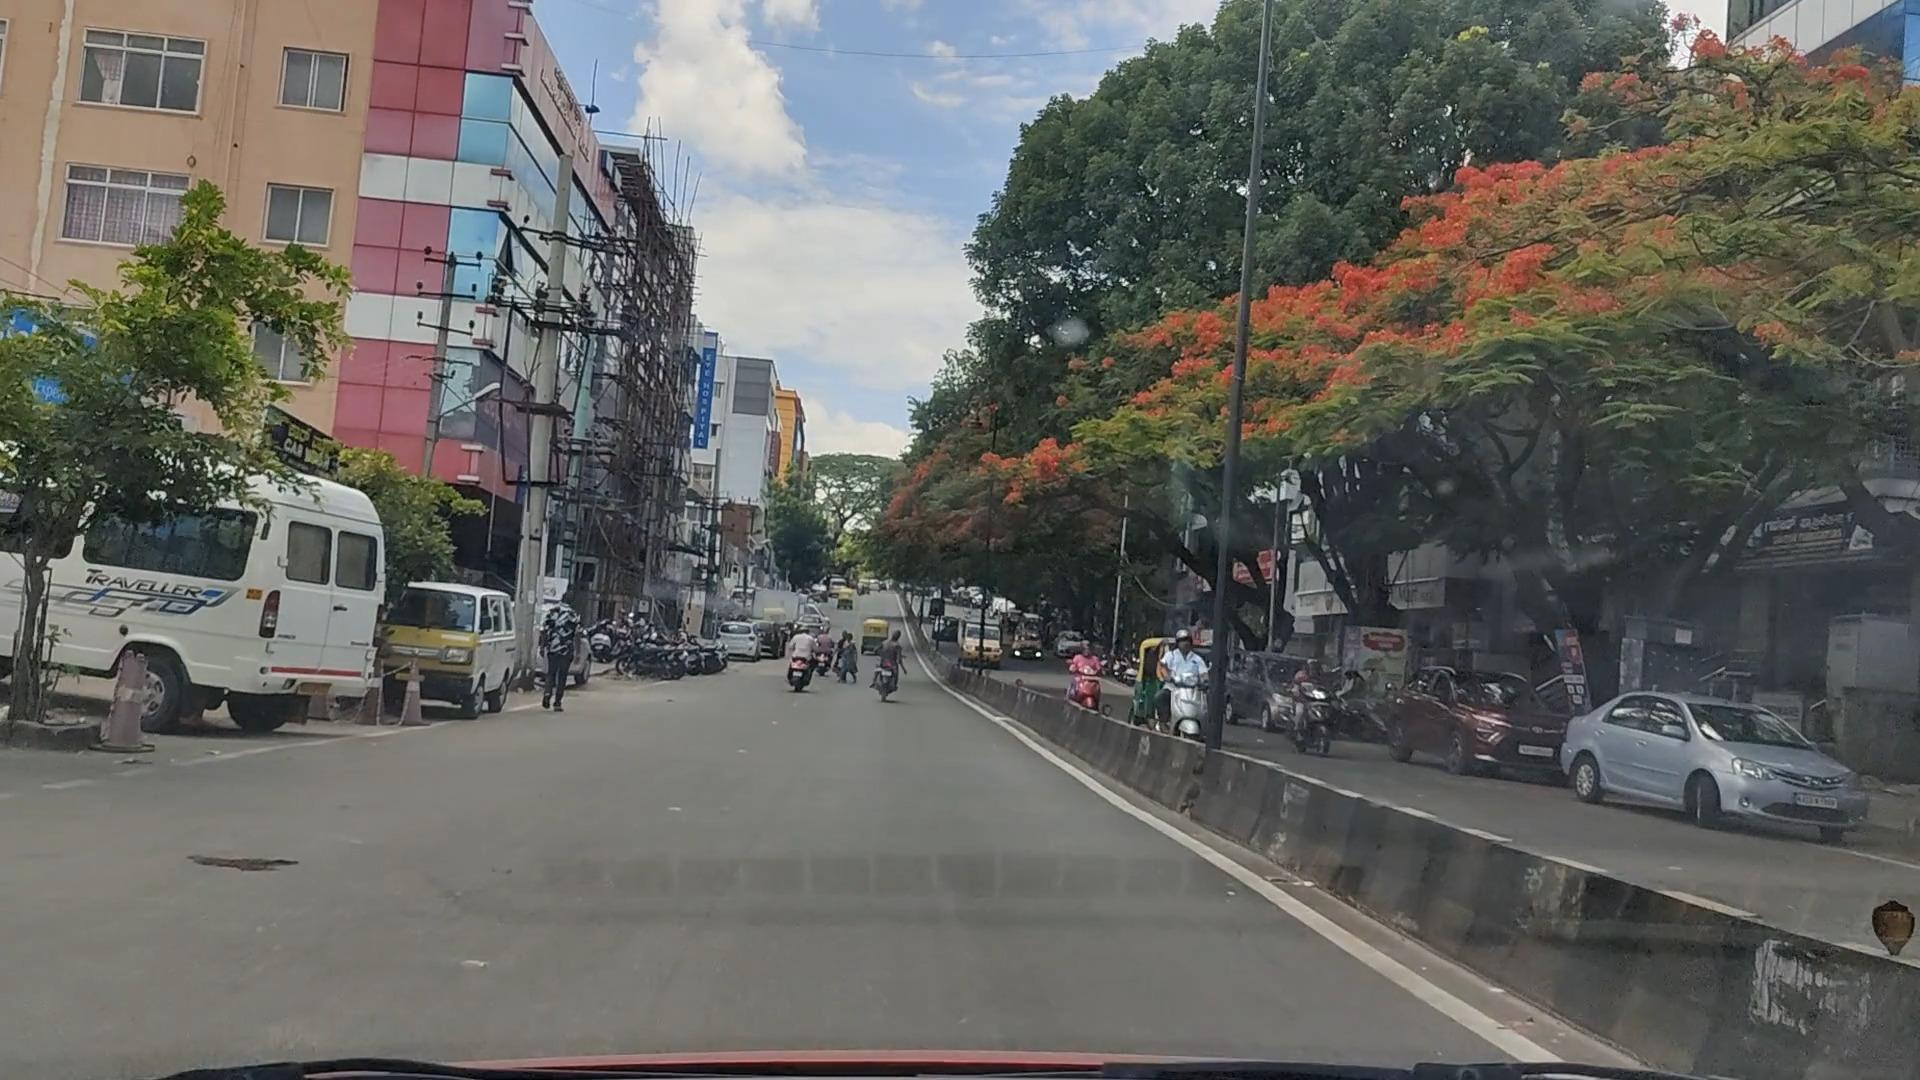RoadDamages: (183, 848, 330, 898)
